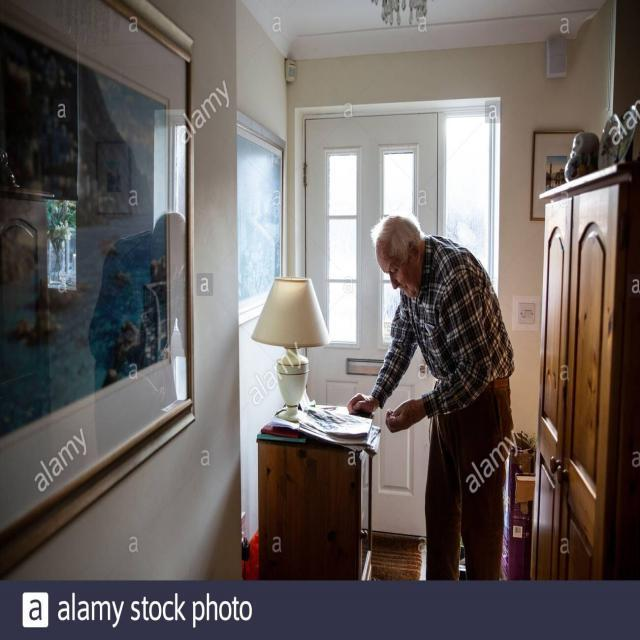walking: (338, 220, 536, 579)
